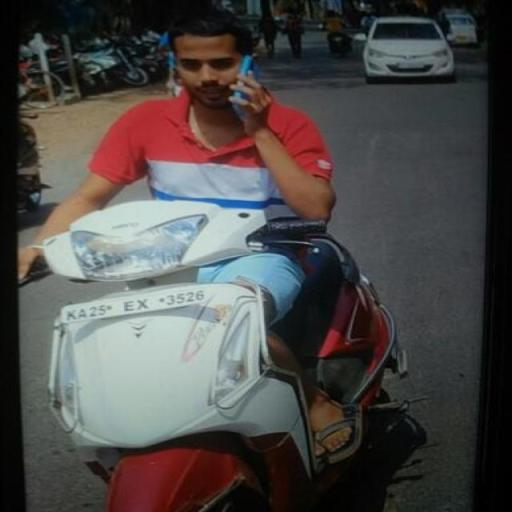numberplate: (58, 279, 218, 323)
using mobile: (228, 50, 268, 122)
